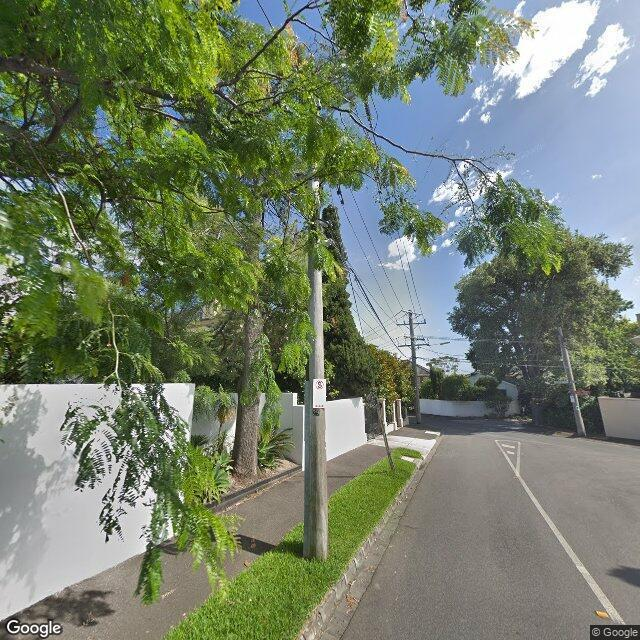crossarm: (398, 342, 430, 348), (396, 319, 427, 325)
streetlight: (430, 341, 451, 346)
timber-pole: (304, 118, 330, 562), (410, 312, 421, 424)
